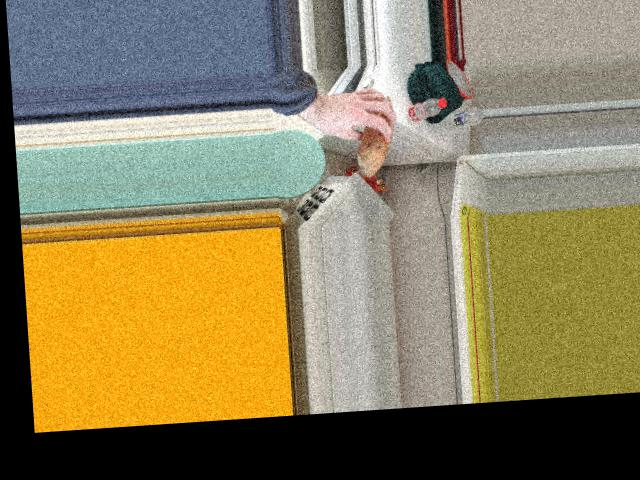sweet_potato: (355, 91, 397, 174)
